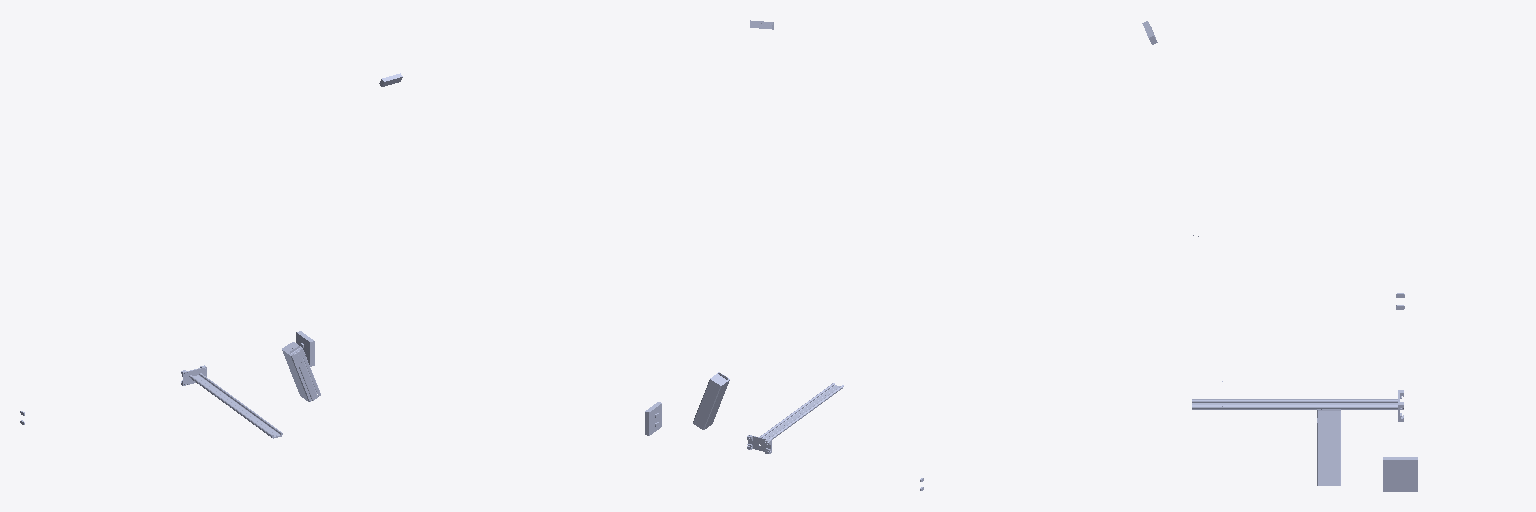
--- Render facts (derived) ---
3 views of the same robot in one strip: view 1: azimuth 30°, elevation 25°; view 2: azimuth 150°, elevation 25°; view 3: azimuth 270°, elevation 25° (orthographic).
Model robo_description with 21 links and 20 joints (2 revolute, 2 prismatic, 16 fixed), rooted at base_link, posed joints at zero except 1 at the middle of their limits (joint5 = 0.4665).
Visible links, largest first — view 1: link2, link5; view 2: link2, link5; view 3: link2, link5, base_link.
Boxes of the visible links, x1=… form: link2: x1=181, y1=365, x2=282, y2=438; link5: x1=282, y1=342, x2=320, y2=401; link2: x1=747, y1=383, x2=843, y2=453; link5: x1=693, y1=372, x2=729, y2=429; link2: x1=1192, y1=390, x2=1403, y2=421; link5: x1=1317, y1=409, x2=1340, y2=485; base_link: x1=1383, y1=293, x2=1417, y2=491.
Bounding box of the posed robot: 1.65 × 0.8002 × 1.5 m (x, y, z).
4 mesh visuals loaded from 6 distinct referenced files (4 binary STL); not drawn: 2 (reference not matched to a file when rendering).

robot.urdf — robo_description:
<?xml version="1.0" encoding="utf-8"?>
<!-- 25AUG2023 Changed the minimum limit of lJoint5 to 0.247 and max to 0.686 -->
<!-- This URDF was automatically created by SolidWorks to URDF Exporter! Originally created by Stephen Brawner ([email redacted]) 
     Commit Version: 1.6.0-4-g7f85cfe  Build Version: 1.6.7995.38578
     For more information, please see http://wiki.ros.org/sw_urdf_exporter -->
<robot
  name="robo_description">
  <link
    name="base_link">
    <inertial>
      <origin
        xyz="-5.13826234849775E-17 -1.63904738952765E-17 0.339473684210526"
        rpy="0 0 0" />
      <mass
        value="19" />
      <inertia
        ixx="2.34956140350877"
        ixy="1.11311423041845E-17"
        ixz="3.69215798456927E-16"
        iyy="2.34956140350877"
        iyz="-7.44985984223617E-17"
        izz="0.151666666666667" />
    </inertial>
    <visual>
      <origin
        xyz="0 0 0"
        rpy="0 0 0" />
      <geometry>
        <mesh
          filename="package://robo_description/meshes/base_link.STL" />
      </geometry>
      <material
        name="">
        <color
          rgba="0.792156862745098 0.819607843137255 0.933333333333333 1" />
      </material>
    </visual>
    <collision>
      <origin
        xyz="0 0 0"
        rpy="0 0 0" />
      <geometry>
        <mesh
          filename="package://robo_description/meshes/base_link.STL" />
      </geometry>
    </collision>
  </link>
  <link
    name="link2">
    <inertial>
      <origin
        xyz="-0.001261 -0.2858 0.14572"
        rpy="0 0 0" />
      <mass
        value="3.13280329013611" />
      <inertia
        ixx="0.0169430024052603"
        ixy="-0.00280446630124331"
        ixz="0.0223183329111622"
        iyy="0.162057682822749"
        iyz="0.000505061238040558"
        izz="0.161640952999751" />
    </inertial>
    <visual>
      <origin
        xyz="0 0 -1"
        rpy="0 0 0" />
      <geometry>
        <mesh
          filename="package://robo_description/meshes/link2.STL" />
      </geometry>
      <material
        name="">
        <color
          rgba="0.792156862745098 0.819607843137255 0.933333333333333 1" />
      </material>
    </visual>
    <collision>
      <origin
        xyz="0 0 0"
        rpy="0 0 0" />
      <geometry>
        <mesh
          filename="package://robo_description/meshes/link2.STL" />
      </geometry>
    </collision>
  </link>
  <joint
    name="joint2"
    type="prismatic">
    <origin
      xyz="0.0 0 1"
      rpy="0 0 0" />
    <parent
      link="base_link" />
    <child
      link="link2" />
    <axis
      xyz="0 0 1" />
    <limit
      lower="0"
      upper="1"
      effort="0"
      velocity="0" />
  </joint>
  <link
    name="link4">
    <inertial>
      <origin
        xyz="-0.000438554587764983 0.0620490502692163 -0.172885898172371"
        rpy="0 0 0" />
      <mass
        value="0.162146723185788" />
      <inertia
        ixx="0.00336616371871891"
        ixy="1.46811284877534E-06"
        ixz="-3.57096843523024E-06"
        iyy="0.00312866852492012"
        iyz="0.00048231220150353"
        izz="0.000338308018448651" />
    </inertial>
    <visual>
      <origin
        xyz="-0.4665 0 -0.790"
        rpy="0 0 0" />
      <geometry>
        <mesh
          filename="package://robo_description/meshes/link4.STL" />
      </geometry>
      <material
        name="">
        <color
          rgba="0.792156862745098 0.819607843137255 0.933333333333333 1" />
      </material>
    </visual>
    <collision>
      <origin
        xyz="0 0 0"
        rpy="0 0 0" />
      <geometry>
        <mesh
          filename="package://robo_description/meshes/link4.STL" />
      </geometry>
    </collision>
  </link>
  <joint
    name="joint4"
    type="revolute">
    <origin
      xyz="0.46904 0 -0.21"
      rpy="0 0 0" />
    <parent
      link="link2" />
    <child
      link="link4" />
    <axis
      xyz="0 0 1" />
    <limit
      lower="-2.9671"
      upper="2.9671"
      effort="0"
      velocity="0" />
  </joint>
  <link
    name="link3">
    <inertial>
      <origin
        xyz="-0.0832189655707039 -0.0894795892974461 -0.00179630042130147"
        rpy="0 0 0" />
      <mass
        value="1.71811977068641" />
      <inertia
        ixx="0.00948440583507882"
        ixy="-0.00159429497921182"
        ixz="0.00308193362516688"
        iyy="0.035537875179704"
        iyz="0.000648421421055908"
        izz="0.0305779645247813" />
    </inertial>
    <visual>
      <origin
        xyz="-0.468545 -0.078 -0.43528"
        rpy="0 0 0" />
      <geometry>
        <mesh
          filename="package://robo_description/meshes/link3.STL" />
      </geometry>
      <material
        name="">
        <color
          rgba="0.792156862745098 0.819607843137255 0.933333333333333 1" />
      </material>
    </visual>
    <collision>
      <origin
        xyz="0 0 0"
        rpy="0 0 0" />
      <geometry>
        <mesh
          filename="package://robo_description/meshes/link3.STL" />
      </geometry>
    </collision>
  </link>
  <joint
    name="joint3"
    type="revolute">
    <origin
      xyz="0.0 0.077824 -0.35472"
      rpy="0 0 0" />
    <parent
      link="link4" />
    <child
      link="link3" />
    <axis
      xyz="0 1 0" />
    <limit
      lower="-1.5708"
      upper="1.5708"
      effort="0"
      velocity="0" />
  </joint>
  <link
    name="yanthra_link">
    <inertial>
      <origin
        xyz="-0.0832189655707036 -0.0114795892974462 -0.00179630042130124"
        rpy="0 0 0" />
      <mass
        value="1.71811977068641" />
      <inertia
        ixx="0.00948440583507882"
        ixy="-0.00159429497921182"
        ixz="0.0030819336251669"
        iyy="0.035537875179704"
        iyz="0.000648421421055907"
        izz="0.0305779645247813" />
    </inertial>
    <visual>
      <origin
        xyz="0 0 0"
        rpy="0 0 0" />
      <geometry>
        <box size="0.001 0.001 0.001"/>
      </geometry>
      <material
        name="">
        <color
          rgba="0.792156862745098 0.819607843137255 0.933333333333333 1" />
      </material>
    </visual>
    <collision>
      <origin
        xyz="0 0 0"
        rpy="0 0 0" />
      <geometry>
        <box size="0.001 0.001 0.001"/>
      </geometry>
    </collision>
  </link>
  <joint
    name="yanthra_joint"
    type="fixed">
    <origin
      xyz="0 -0.078 0"
      rpy="0 0 0" />
    <parent
      link="link3" />
    <child
      link="yanthra_link" />
    <axis
      xyz="0 0 0" />
  </joint>
  <link
    name="link5_origin">
    <inertial>
      <origin
        xyz="-0.00874999999999998 0.0375 -0.00507843424240889"
        rpy="0 0 0" />
      <mass
        value="0.0438088883035136" />
      <inertia
        ixx="3.24913884800222E-05"
        ixy="1.33063310958086E-21"
        ixz="-8.470329472543E-22"
        iyy="3.99574478810853E-06"
        iyz="-3.38875204913906E-21"
        izz="3.07317223657389E-05" />
    </inertial>
    <visual>
      <origin
        xyz="0 0 0"
        rpy="0 0 0" />
      <geometry>
        <box size="0.001 0.001 0.001"/>
      </geometry>
      <material
        name="">
        <color
          rgba="0.792156862745098 0.819607843137255 0.933333333333333 1" />
      </material>
    </visual>
    <collision>
      <origin
        xyz="0 0 0"
        rpy="0 0 0" />
      <geometry>
        <box size="0.001 0.001 0.001"/>
      </geometry>
    </collision>
  </link>
  <joint
    name="link5_origin_joint"
    type="fixed">
    <origin
      xyz="0 0 0.0"
      rpy="0 0 0" />
    <parent	
      link="yanthra_link" />
    <child
      link="link5_origin" />
    <axis
      xyz="0 0 0" />
  </joint>
  <link
    name="link5">
    <inertial>
      <origin
        xyz="0.108132413871145 2.08242781028485E-06 0.00569147154470495"
        rpy="0 0 0" />
      <mass
        value="0.277404400359573" />
      <inertia
        ixx="0.00021628976171093"
        ixy="1.27900715148446E-06"
        ixz="-0.000135093187106687"
        iyy="0.00359200319167061"
        iyz="-8.36237914028336E-08"
        izz="0.00358633509004247" />
    </inertial>
    <visual>
      <origin
        xyz="-0.715545 0 -0.43528"
        rpy="0 0 0" />
      <geometry>
        <mesh
          filename="package://robo_description/meshes/link5.STL" />
      </geometry>
      <material
        name="">
        <color
          rgba="0.792156862745098 0.819607843137255 0.933333333333333 1" />
      </material>
    </visual>
    <collision>
      <origin
        xyz="0 0 0"
        rpy="0 0 0" />
      <geometry>
        <mesh
          filename="package://robo_description/meshes/link5.STL" />
      </geometry>
    </collision>
  </link>
  <joint
    name="joint5"
    type="prismatic">
    <origin
      xyz="0.0 0 0"
      rpy="0 0 0" />
    <parent
      link="link5_origin" />
    <child
      link="link5" />
    <axis
      xyz="1 0 0" />
    <limit
      lower="0.247"
      upper="0.686"
      effort="0"
      velocity="0" />
  </joint>
  <link
    name="ee_link">
    <inertial>
      <origin
        xyz="-0.00874999999999998 0.0375 -0.00507843424240889"
        rpy="0 0 0" />
      <mass
        value="0.0438088883035136" />
      <inertia
        ixx="3.24913884800222E-05"
        ixy="1.33063310958086E-21"
        ixz="-8.470329472543E-22"
        iyy="3.99574478810853E-06"
        iyz="-3.38875204913906E-21"
        izz="3.07317223657389E-05" />
    </inertial>
    <visual>
      <origin
        xyz="0 0 0"
        rpy="0 0 0" />
      <geometry>
        <box size="0.001 0.001 0.001"/>
      </geometry>
      <material
        name="">
        <color
          rgba="0.792156862745098 0.819607843137255 0.933333333333333 1" />
      </material>
    </visual>
    <collision>
      <origin
        xyz="0 0 0"
        rpy="0 0 0" />
      <geometry>
        <box size="0.001 0.001 0.001"/>
      </geometry>
    </collision>
  </link>
  <joint
    name="ee_joint"
    type="fixed">
    <origin
      xyz="-0.085 0 0"
      rpy="0 0 0" />
    <parent	
      link="link5" />
    <child
      link="ee_link" />
    <axis
      xyz="0 0 0" />
  </joint>
  <link
    name="aruco_marker_link">
    <inertial>
      <origin
        xyz="-0.00874999999999998 0.0375 -0.00507843424240889"
        rpy="0 0 0" />
      <mass
        value="0.0438088883035136" />
      <inertia
        ixx="3.24913884800222E-05"
        ixy="1.33063310958086E-21"
        ixz="-8.470329472543E-22"
        iyy="3.99574478810853E-06"
        iyz="-3.38875204913906E-21"
        izz="3.07317223657389E-05" />
    </inertial>
    <visual>
      <origin
        xyz="0 0 0"
        rpy="0 0 0" />
      <geometry>
        <box size="0.001 0.001 0.001"/>
      </geometry>
      <material
        name="">
        <color
          rgba="0.792156862745098 0.819607843137255 0.933333333333333 1" />
      </material>
    </visual>
    <collision>
      <origin
        xyz="0 0 0"
        rpy="0 0 0" />
      <geometry>
        <box size="0.001 0.001 0.001"/>
      </geometry>
    </collision>
  </link>
  <joint
    name="aruco_joint"
    type="fixed">
    <origin
      xyz="0.0 0 0.08"
      rpy="0 0 0" />
    <parent	
      link="ee_link" />
    <child
      link="aruco_marker_link" />
    <axis
      xyz="0 0 0" />
  </joint>
  <link
    name="aruco_link_1">
    <inertial>
      <origin
        xyz="-0.00874999999999998 0.0375 -0.00507843424240889"
        rpy="0 0 0" />
      <mass
        value="0.0438088883035136" />
      <inertia
        ixx="3.24913884800222E-05"
        ixy="1.33063310958086E-21"
        ixz="-8.470329472543E-22"
        iyy="3.99574478810853E-06"
        iyz="-3.38875204913906E-21"
        izz="3.07317223657389E-05" />
    </inertial>
    <visual>
      <origin
        xyz="0 0 0"
        rpy="0 0 0" />
      <geometry>
        <box size="0.001 0.001 0.001"/>
      </geometry>
      <material
        name="">
        <color
          rgba="0.792156862745098 0.819607843137255 0.933333333333333 1" />
      </material>
    </visual>
    <collision>
      <origin
        xyz="0 0 0"
        rpy="0 0 0" />
      <geometry>
        <box size="0.001 0.001 0.001"/>
      </geometry>
    </collision>
  </link>
  <joint
    name="aruco_joint_1"
    type="fixed">
    <origin
      xyz="0.0 0.04 0.04"
      rpy="0 0 0" />
    <parent	
      link="aruco_marker_link" />
    <child
      link="aruco_link_1" />
    <axis
      xyz="0 0 0" />
  </joint>
  <link
    name="aruco_link_2">
    <inertial>
      <origin
        xyz="-0.00874999999999998 0.0375 -0.00507843424240889"
        rpy="0 0 0" />
      <mass
        value="0.0438088883035136" />
      <inertia
        ixx="3.24913884800222E-05"
        ixy="1.33063310958086E-21"
        ixz="-8.470329472543E-22"
        iyy="3.99574478810853E-06"
        iyz="-3.38875204913906E-21"
        izz="3.07317223657389E-05" />
    </inertial>
    <visual>
      <origin
        xyz="0 0 0"
        rpy="0 0 0" />
      <geometry>
        <box size="0.001 0.001 0.001"/>
      </geometry>
      <material
        name="">
        <color
          rgba="0.792156862745098 0.819607843137255 0.933333333333333 1" />
      </material>
    </visual>
    <collision>
      <origin
        xyz="0 0 0"
        rpy="0 0 0" />
      <geometry>
        <box size="0.001 0.001 0.001"/>
      </geometry>
    </collision>
  </link>
  <joint
    name="aruco_joint_2"
    type="fixed">
    <origin
      xyz="0.0 -0.04 0.04"
      rpy="0 0 0" />
    <parent	
      link="aruco_marker_link" />
    <child
      link="aruco_link_2" />
    <axis
      xyz="0 0 0" />
  </joint>
  <link
    name="aruco_link_3">
    <inertial>
      <origin
        xyz="-0.00874999999999998 0.0375 -0.00507843424240889"
        rpy="0 0 0" />
      <mass
        value="0.0438088883035136" />
      <inertia
        ixx="3.24913884800222E-05"
        ixy="1.33063310958086E-21"
        ixz="-8.470329472543E-22"
        iyy="3.99574478810853E-06"
        iyz="-3.38875204913906E-21"
        izz="3.07317223657389E-05" />
    </inertial>
    <visual>
      <origin
        xyz="0 0 0"
        rpy="0 0 0" />
      <geometry>
        <box size="0.001 0.001 0.001"/>
      </geometry>
      <material
        name="">
        <color
          rgba="0.792156862745098 0.819607843137255 0.933333333333333 1" />
      </material>
    </visual>
    <collision>
      <origin
        xyz="0 0 0"
        rpy="0 0 0" />
      <geometry>
        <box size="0.001 0.001 0.001"/>
      </geometry>
    </collision>
  </link>
  <joint
    name="aruco_joint_3"
    type="fixed">
    <origin
      xyz="0.0 0.04 -0.04"
      rpy="0 0 0" />
    <parent	
      link="aruco_marker_link" />
    <child
      link="aruco_link_3" />
    <axis
      xyz="0 0 0" />
  </joint>
  <link
    name="aruco_link_4">
    <inertial>
      <origin
        xyz="-0.00874999999999998 0.0375 -0.00507843424240889"
        rpy="0 0 0" />
      <mass
        value="0.0438088883035136" />
      <inertia
        ixx="3.24913884800222E-05"
        ixy="1.33063310958086E-21"
        ixz="-8.470329472543E-22"
        iyy="3.99574478810853E-06"
        iyz="-3.38875204913906E-21"
        izz="3.07317223657389E-05" />
    </inertial>
    <visual>
      <origin
        xyz="0 0 0"
        rpy="0 0 0" />
      <geometry>
        <box size="0.001 0.001 0.001"/>
      </geometry>
      <material
        name="">
        <color
          rgba="0.792156862745098 0.819607843137255 0.933333333333333 1" />
      </material>
    </visual>
    <collision>
      <origin
        xyz="0 0 0"
        rpy="0 0 0" />
      <geometry>
        <box size="0.001 0.001 0.001"/>
      </geometry>
    </collision>
  </link>
  <joint
    name="aruco_joint_4"
    type="fixed">
    <origin
      xyz="0.0 -0.04 -0.04"
      rpy="0 0 0" />
    <parent	
      link="aruco_marker_link" />
    <child
      link="aruco_link_4" />
    <axis
      xyz="0 0 0" />
  </joint>
  <link
    name="link7">
    <inertial>
      <origin
        xyz="-0.00129487747822488 -0.0114795892973884 0.11996423535158"
        rpy="0 0 0" />
      <mass
        value="1.71811977068641" />
      <inertia
        ixx="0.0113386071435481"
        ixy="-0.00171490439294498"
        ixz="-0.00672100859249017"
        iyy="0.0355378751797041"
        iyz="-0.0001460470577602"
        izz="0.0287237632163119" />
    </inertial>
    <visual>
      <origin
        xyz="0 0 0"
        rpy="0 0 0" />
      <geometry>
        <box size="0.001 0.001 0.001"/>
      </geometry>
      <material
        name="">
        <color
          rgba="0.792156862745098 0.819607843137255 0.933333333333333 1" />
      </material>
    </visual>
    <collision>
      <origin
        xyz="0 0 0"
        rpy="0 0 0" />
      <geometry>
        <box size="0.001 0.001 0.001"/>
      </geometry>
    </collision>
  </link>
  <joint
    name="joint7"
    type="fixed">
    <origin
      xyz="0.47229 -0.069971 0.80411"
      rpy="0 0.785398 -1.5708" />
    <parent
      link="base_link"/>
    <child
      link="link7"/>
    <axis
      xyz="0 0 0" />
  </joint>
  <link
    name="camera_mount_link">
    <inertial>
      <origin
        xyz="-0.00129487747822488 -0.0114795892973883 0.11996423535158"
        rpy="0 0 0" />
      <mass
        value="1.71811977068641" />
      <inertia
        ixx="0.0113386071435481"
        ixy="-0.00171490439294498"
        ixz="-0.00672100859249018"
        iyy="0.0355378751797041"
        iyz="-0.000146047057760202"
        izz="0.0287237632163119" />
    </inertial>
    <visual>
      <origin
        xyz="0 0 0"
        rpy="0 0 0" />
      <geometry>
        <box size="0.001 0.001 0.001"/>
      </geometry>
      <material
        name="">
        <color
          rgba="0.792156862745098 0.819607843137255 0.933333333333333 1" />
      </material>
    </visual>
    <collision>
      <origin
        xyz="0 0 0"
        rpy="0 0 0" />
      <geometry>
        <box size="0.001 0.001 0.001"/>
      </geometry>
    </collision>
  </link>
     <!--Realsense Camera depth is 20 mm from back to glass, But the depth start point(GROUND ZERO REFERENCE i.e depth is Zero) is 1.1 mm behind glass-->
     <!--Camera thickness-Zero Ref +Plate thick=20-1.1+2 = 20.09 mm -->
     <!-- xyz="0.0209 -0.0375 0"-->
  <joint
    name="camera_mount_joint"
    type="fixed">
    <origin
      xyz="0.02090 -0.0375 0"
      rpy="-1.5708 0 -1.5708" />
    <parent
      link="link7" />
    <child
      link="camera_mount_link" />
    <axis
      xyz="0 0 0" />
  </joint>
  <link
    name="virtual_cam_link">
    <inertial>
      <origin
        xyz="-0.00874999999999998 0.0375 -0.00507843424240889"
        rpy="0 0 0" />
      <mass
        value="0.0438088883035136" />
      <inertia
        ixx="3.24913884800222E-05"
        ixy="1.33063310958086E-21"
        ixz="-8.470329472543E-22"
        iyy="3.99574478810853E-06"
        iyz="-3.38875204913906E-21"
        izz="3.07317223657389E-05" />
    </inertial>
    <visual>
      <origin
        xyz="0 0 0"
        rpy="0 0 0" />
      <geometry>
        <box size="0.001 0.001 0.001"/>
      </geometry>
      <material
        name="">
        <color
          rgba="0.792156862745098 0.819607843137255 0.933333333333333 1" />
      </material>
    </visual>
    <collision>
      <origin
        xyz="0 0 0"
        rpy="0 0 0" />
      <geometry>
        <box size="0.001 0.001 0.001"/>
      </geometry>
    </collision>
  </link>
  <joint
    name="virtual_cam_link_joint"
    type="fixed">
    <origin
      xyz="0 0 0"
      rpy="0 0 0" />
    <parent	
      link="camera_mount_link" />
    <child
      link="virtual_cam_link" />
    <axis
      xyz="0 0 0" />
  </joint>

  <link
    name="camera_link">
    <inertial>
      <origin
        xyz="-0.00874999999999998 0.0375 -0.00507843424240889"
        rpy="0 0 0" />
      <mass
        value="0.0438088883035136" />
      <inertia
        ixx="3.24913884800222E-05"
        ixy="1.33063310958086E-21"
        ixz="-8.470329472543E-22"
        iyy="3.99574478810853E-06"
        iyz="-3.38875204913906E-21"
        izz="3.07317223657389E-05" />
    </inertial>
    <visual>
      <origin
        xyz="-0.03768 -0.425 -0.175"
        rpy="0 -2.04 -1.5708" />
      <geometry>
        <mesh
          filename="package://robo_description/meshes/camera_link.STL" />
      </geometry>
      <material
        name="">
        <color
          rgba="0.792156862745098 0.819607843137255 0.933333333333333 1" />
      </material>
    </visual>
    <collision>
      <origin
        xyz="0 0 0"
        rpy="0 0 0" />
      <geometry>
        <mesh
          filename="package://robo_description/meshes/camera_link.STL" />
      </geometry>
    </collision>
  </link>
  <joint
    name="camera_link_joint"
    type="fixed">
    <origin
      xyz="-0.0278908 0.00424787 -0.0217278"
      rpy="0.0385392 -0.0878726 -0.188976" />
    <parent
      link="virtual_cam_link" />
    <child
      link="camera_link" />
    <axis
      xyz="0 0 0" />
  </joint>

  <link name="camera_depth_frame">

    <visual>

    <origin xyz="0 0 0" rpy="0 0 0" />

      <geometry>

        <box size="0.001 0.001 0.001"/>

      </geometry>

    </visual>

  </link>

  <joint name="camera_depth_frame_joint" type="fixed">

    <origin rpy="0 0 0" xyz="0 0 0"/>

    <parent link="camera_link"/>

    <child link="camera_depth_frame"/>

  </joint>

  <link name="camera_depth_optical_frame">

    <visual>

    <origin xyz="0 0 0" rpy="0 0 0" />

      <geometry>

        <box size="0.001 0.001 0.001"/>

      </geometry>

    </visual>

  </link>

  <joint name="camera_depth_optical_frame_joint" type="fixed">

   <origin rpy="0 0 0" xyz="0 0 0"/>

   <parent link="camera_depth_frame"/>

   <child link="camera_depth_optical_frame"/>

  </joint>

  <link name="camera_color_frame">

    <visual>

    <origin xyz="0 0 0" rpy="0 0 0" />

      <geometry>

        <box size="0.001 0.001 0.001"/>

      </geometry>

    </visual>

  </link>

  <joint name="camera_color_frame_joint" type="fixed">

    <origin rpy="0 0 0" xyz="0 0 0"/>

    <parent link="camera_link"/>

    <child link="camera_color_frame"/>

  </joint>

  <link name="camera_color_optical_frame">

    <visual>

    <origin xyz="0 0 0" rpy="0 0 0" />

      <geometry>

        <box size="0.001 0.001 0.001"/>

      </geometry>

    </visual>

  </link>

  <joint name="camera_color_optical_frame_joint" type="fixed">

   <origin rpy="0 0 0" xyz="0 0 0"/>

   <parent link="camera_color_frame"/>

   <child link="camera_color_optical_frame"/>

  </joint>
  <gazebo reference="stand">

    <material>Gazebo/Grey</material>

  </gazebo>

  <gazebo reference="link3">

    <material>Gazebo/Green</material>

  </gazebo>

  <gazebo reference="link4">

    <material>Gazebo/Red</material>

  </gazebo>

  <gazebo reference="link5">

    <material>Gazebo/Green</material>

  </gazebo>

  <gazebo reference="link9">

    <material>Gazebo/Red</material>

  </gazebo>

  <gazebo reference="link6">

    <material>Gazebo/White</material>

  </gazebo>

  <transmission name="tran1">

    <type>transmission_interface/SimpleTransmission</type>

    <joint name="joint3">

      <hardwareInterface>hardware_interface/PositionJointInterface</hardwareInterface>

    </joint>

    <actuator name="motor1">

      <hardwareInterface>hardware_interface/PositionJointInterface</hardwareInterface>

      <mechanicalReduction>1</mechanicalReduction>

    </actuator>

  </transmission>

  <transmission name="tran1">

    <type>transmission_interface/SimpleTransmission</type>

    <joint name="joint4">

      <hardwareInterface>hardware_interface/PositionJointInterface</hardwareInterface>

    </joint>

    <actuator name="motor1">

      <hardwareInterface>hardware_interface/PositionJointInterface</hardwareInterface>

      <mechanicalReduction>1</mechanicalReduction>

    </actuator>

  </transmission>

  <transmission name="tran1">

    <type>transmission_interface/SimpleTransmission</type>

    <joint name="joint5">

      <hardwareInterface>hardware_interface/PositionJointInterface</hardwareInterface>

    </joint>

    <actuator name="motor1">

      <hardwareInterface>hardware_interface/PositionJointInterface</hardwareInterface>

      <mechanicalReduction>1</mechanicalReduction>

    </actuator>

  </transmission>

  <gazebo>

    <plugin filename="libgazebo_ros_control.so" name="gazebo_ros_control">

      <robotNameSpace>/arm_controller</robotNameSpace>

    </plugin>

  </gazebo>

</robot>
